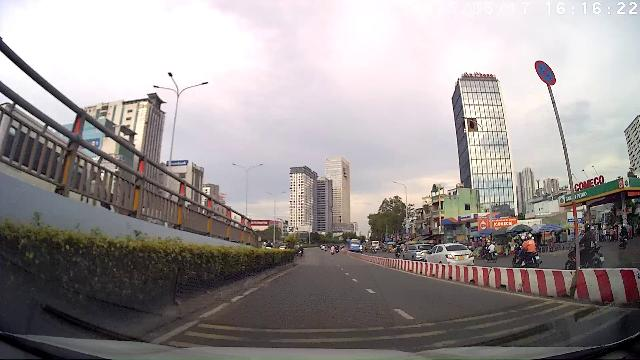130-cam-dung-va-do-xe: (534, 60, 557, 86)
134-het-han-che-toc-do-toi-da: (286, 225, 296, 235)
